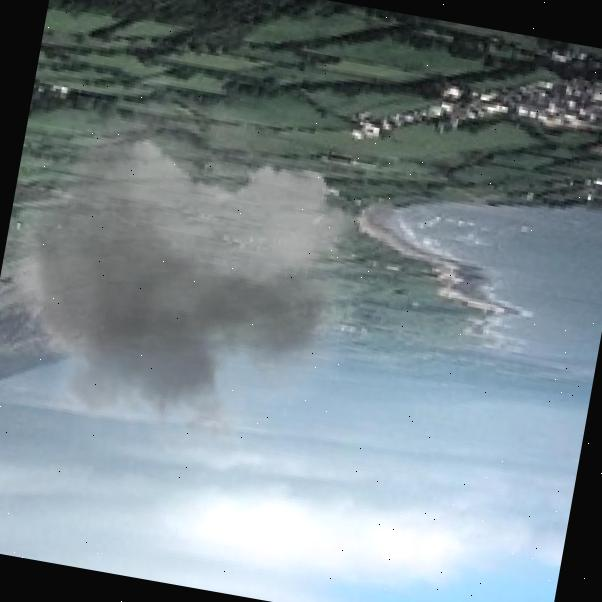smoke: (0, 36, 402, 505)
